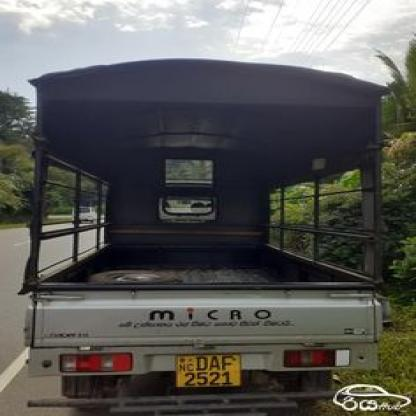Lorry back: (13, 55, 398, 414)
number plate: (174, 352, 236, 390)
